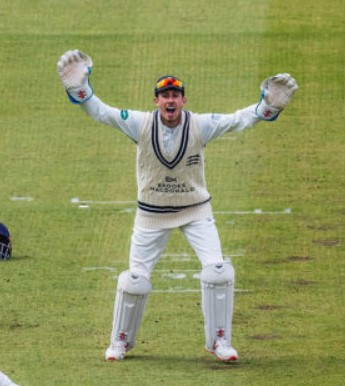LeftElbow: (221, 91, 243, 149)
LeftShoulder: (192, 93, 213, 160)
RightElbow: (96, 87, 113, 141)
RightShoulder: (123, 92, 148, 154)
Torso: (140, 133, 193, 195)
